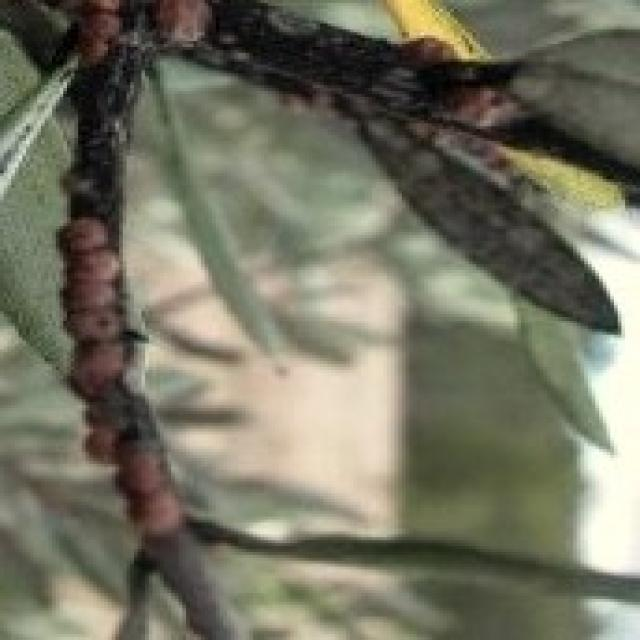Black Scale: (60, 217, 179, 534), (78, 0, 119, 62), (153, 0, 208, 44)
